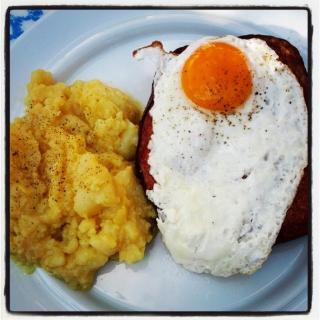Egg: (131, 33, 311, 276)
